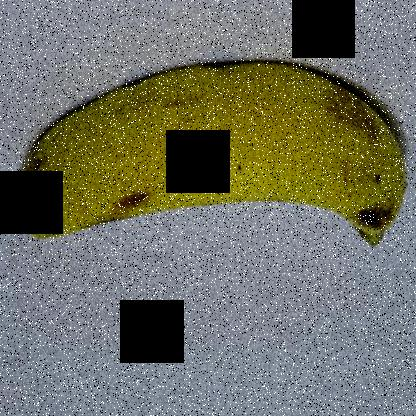freshripe: (8, 23, 415, 278)
